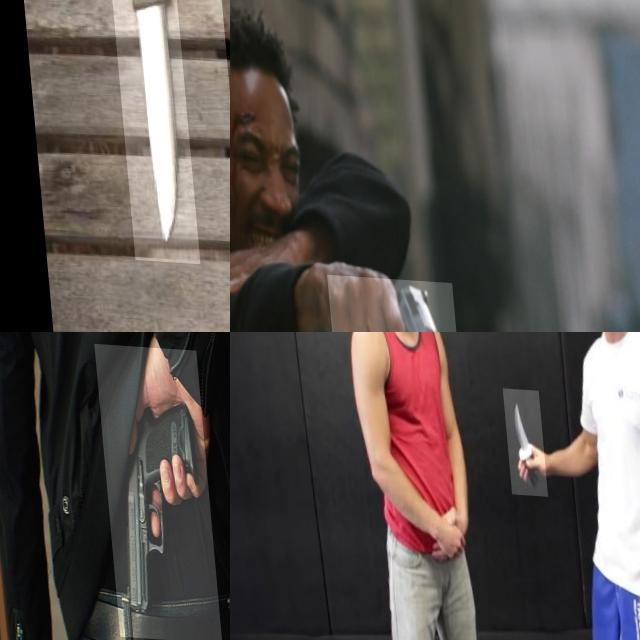-: (101, 0, 190, 262), (498, 384, 541, 492)
gun-knife-thesis - v11 Yolov5 augmented: (92, 341, 214, 639), (321, 270, 456, 332)
